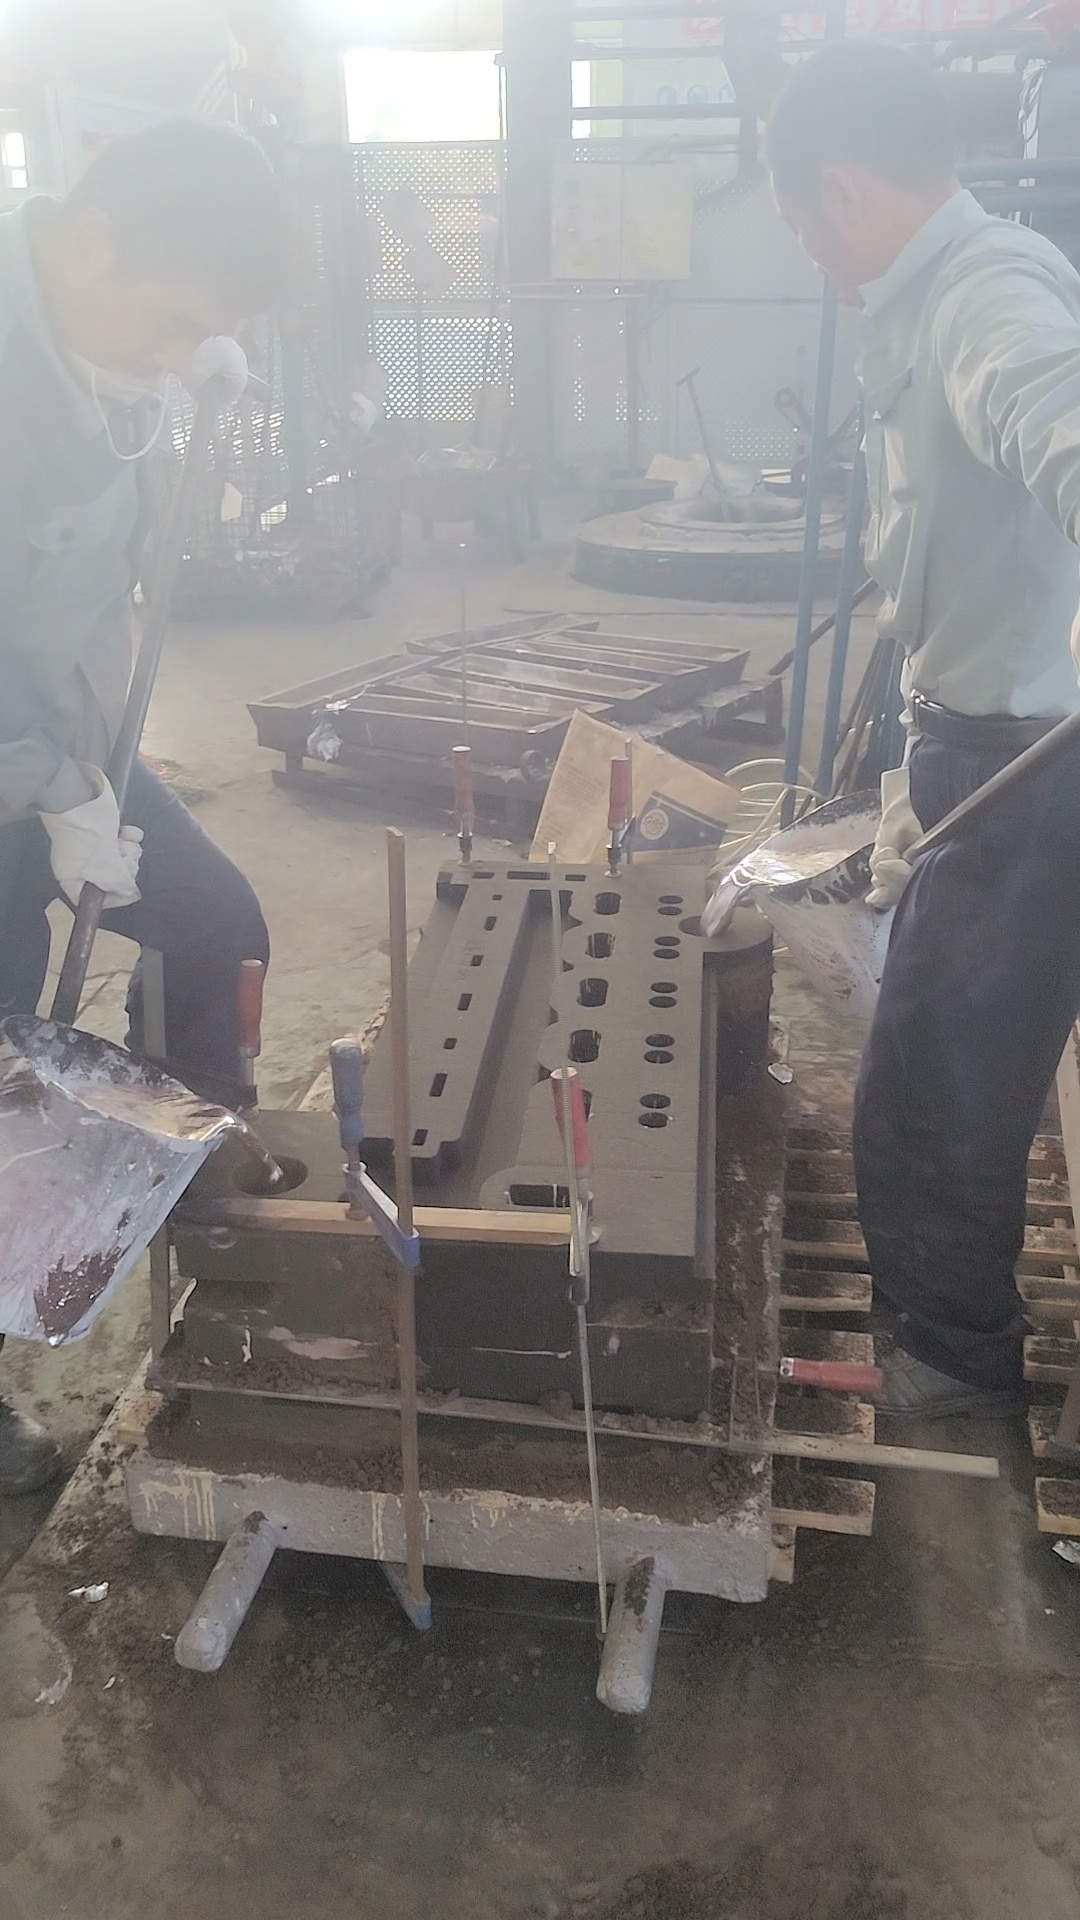pouring hole: (229, 1153, 309, 1197), (676, 913, 735, 938)
